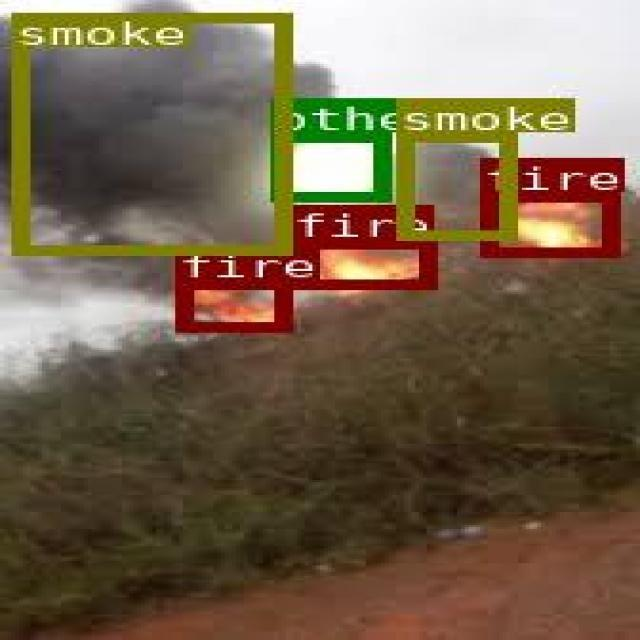fire: (479, 191, 614, 255), (286, 239, 432, 287), (175, 279, 288, 329)
smoke: (10, 13, 287, 254), (395, 132, 514, 237)
